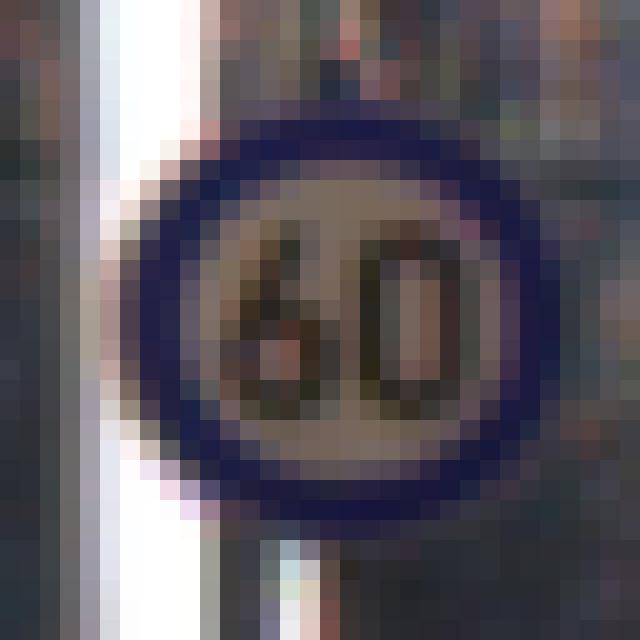SPEED-LIMIT-60: (124, 98, 566, 548)
